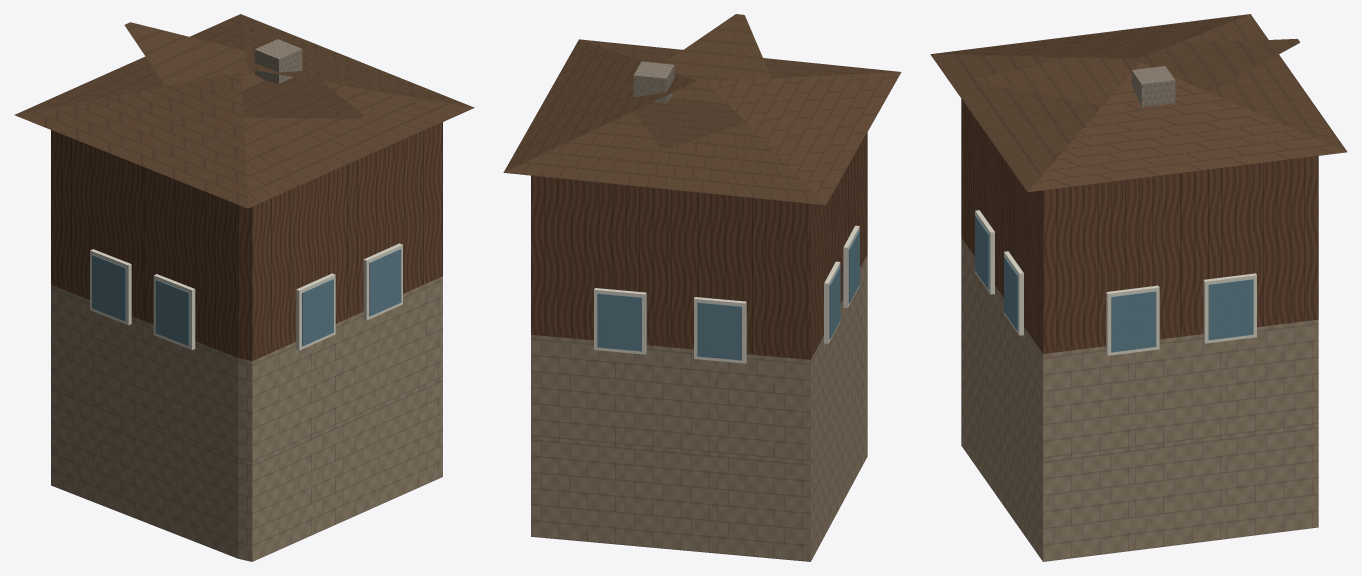
File: core_0143.gltf
3 views of the same model, side by side, from view 1: azimuth 30°, elevation 25°; view 2: azimuth 150°, elevation 25°; view 3: azimuth 270°, elevation 25° (orthographic). The views are drawn at different scales.
Visible parts, largest first — view 1: core_0143; view 2: core_0143; view 3: core_0143.
Part boxes in pixels (x1,y1,x2,y2): core_0143: [14, 14, 474, 561]; core_0143: [503, 14, 901, 561]; core_0143: [930, 14, 1347, 561].
Bounding box in the file's own units: 9.02 × 10.15 × 8.92.
Materials: 6 (6 with a texture image).
